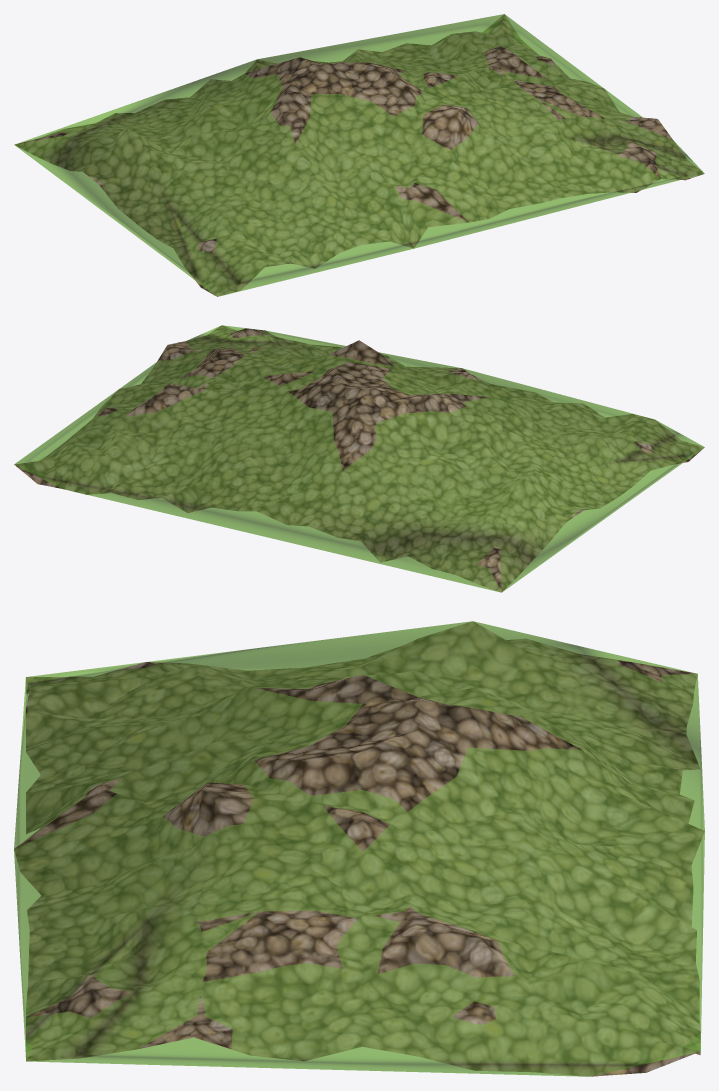
Rendered from pg_Chickpeas.fbx.
The picture shows the model from 3 angles, top to bottom: view 1: azimuth 30°, elevation 25°; view 2: azimuth 150°, elevation 25°; view 3: azimuth 270°, elevation 25°; orthographic projection. The views are drawn at different scales.
Visible parts, largest first — view 1: pg_chickpeas_a_col, pg_chickpeas_a_LOD0; view 2: pg_chickpeas_a_LOD0, pg_chickpeas_a_col; view 3: pg_chickpeas_a_LOD0, pg_chickpeas_a_col.
Part boxes in pixels (x1=…): pg_chickpeas_a_col: x1=14, y1=14, x2=704, y2=296; pg_chickpeas_a_LOD0: x1=14, y1=14, x2=704, y2=296; pg_chickpeas_a_LOD0: x1=14, y1=325, x2=704, y2=592; pg_chickpeas_a_col: x1=14, y1=325, x2=704, y2=592; pg_chickpeas_a_LOD0: x1=14, y1=621, x2=704, y2=1076; pg_chickpeas_a_col: x1=14, y1=621, x2=704, y2=1076.
Size of what is drawn, in the model's own units: 40.93 by 7.57 by 30.25.
